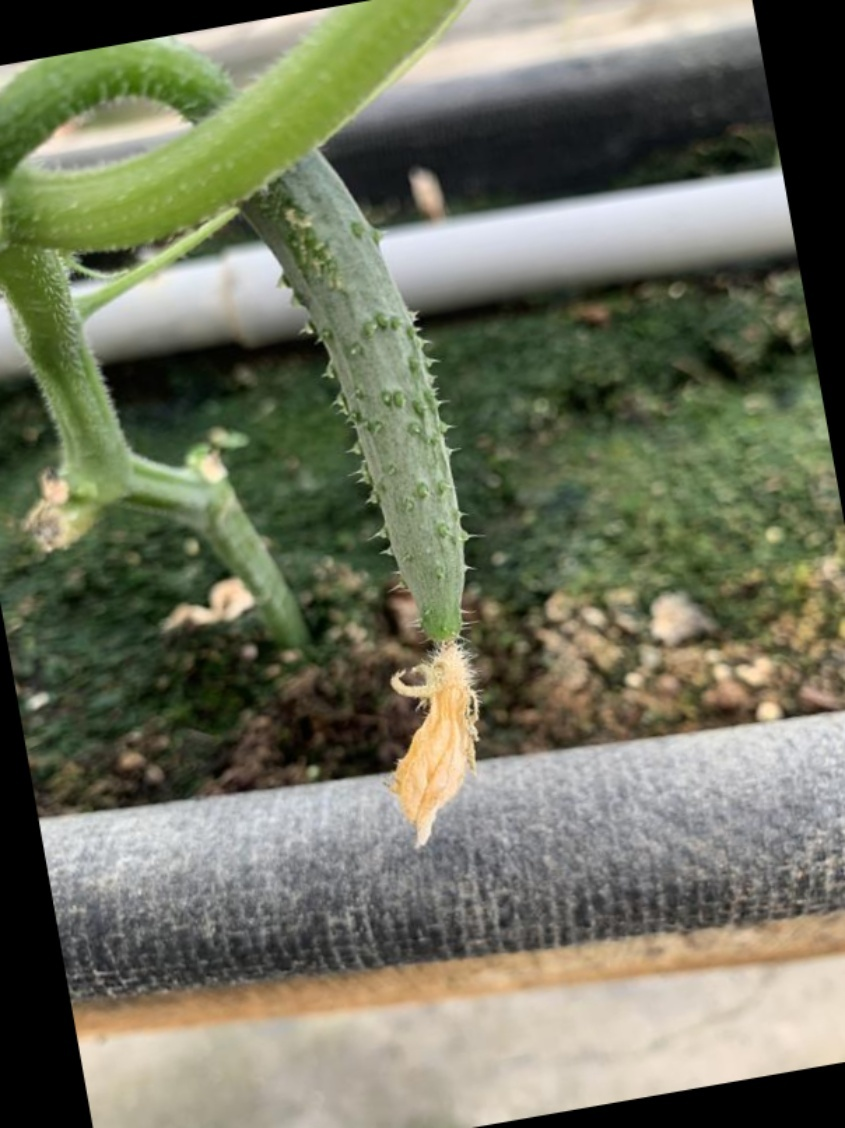bear: (270, 194, 557, 842)
